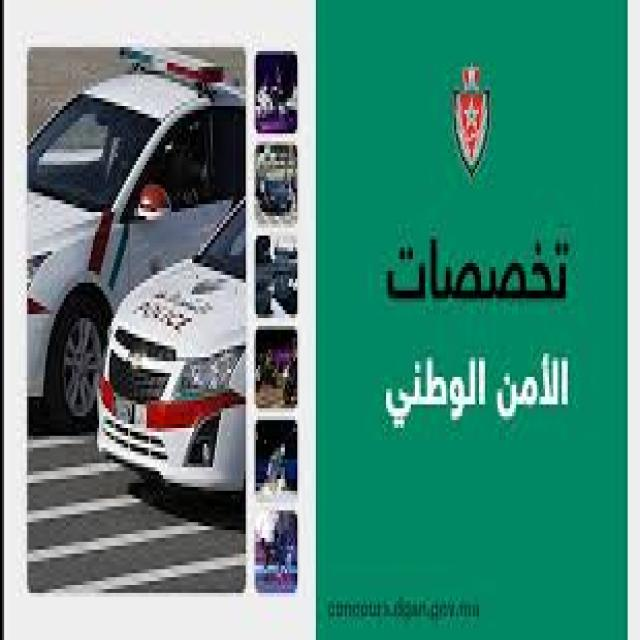police: (31, 52, 244, 266)
